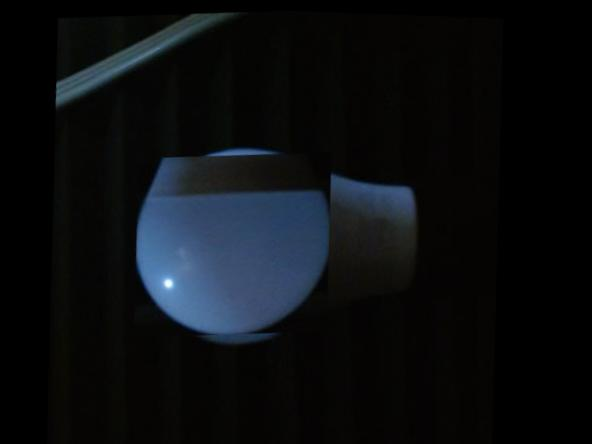Fan: (130, 141, 344, 346)
